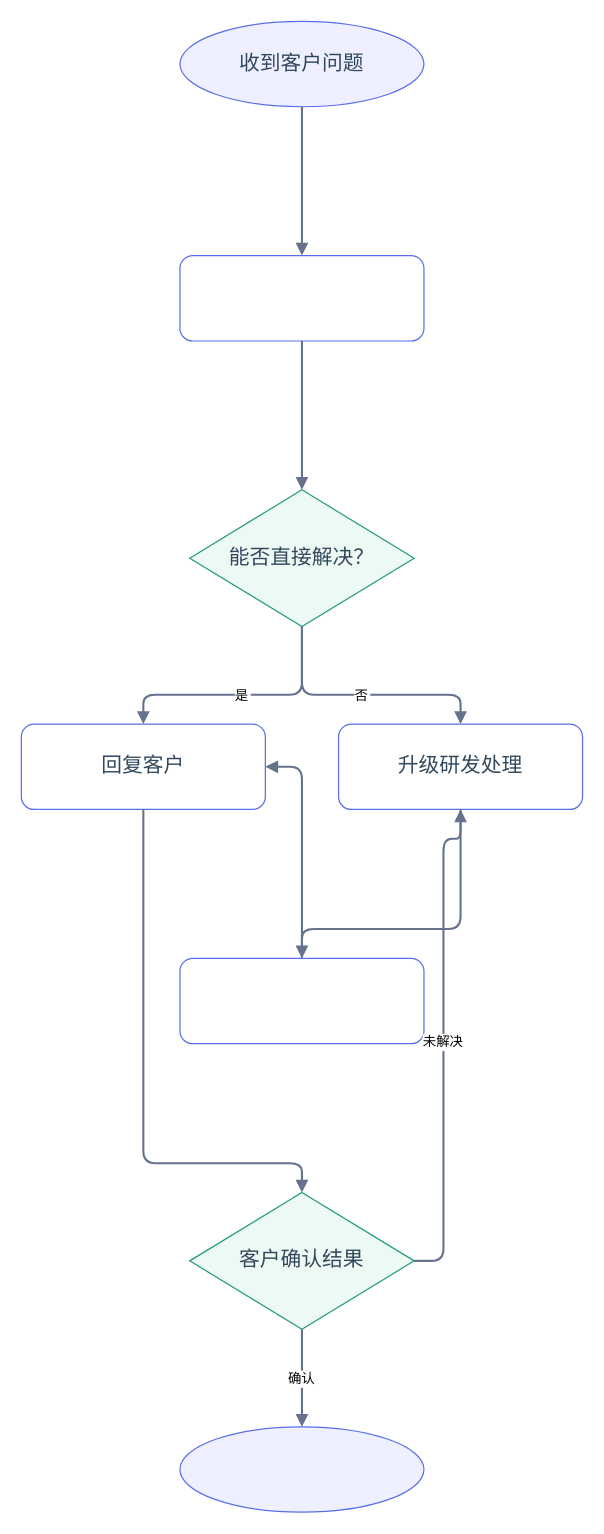
Image size: 604x1534. Some labels were removed from this diagram. The shapes that lost their labels are listed below. From the top down, each one's centre as x and y in pixels, then its label:
At point 301,297: "客服初步判断".
At point 301,1000: "复现问题并修复".
At point 301,1469: "关闭问题".
